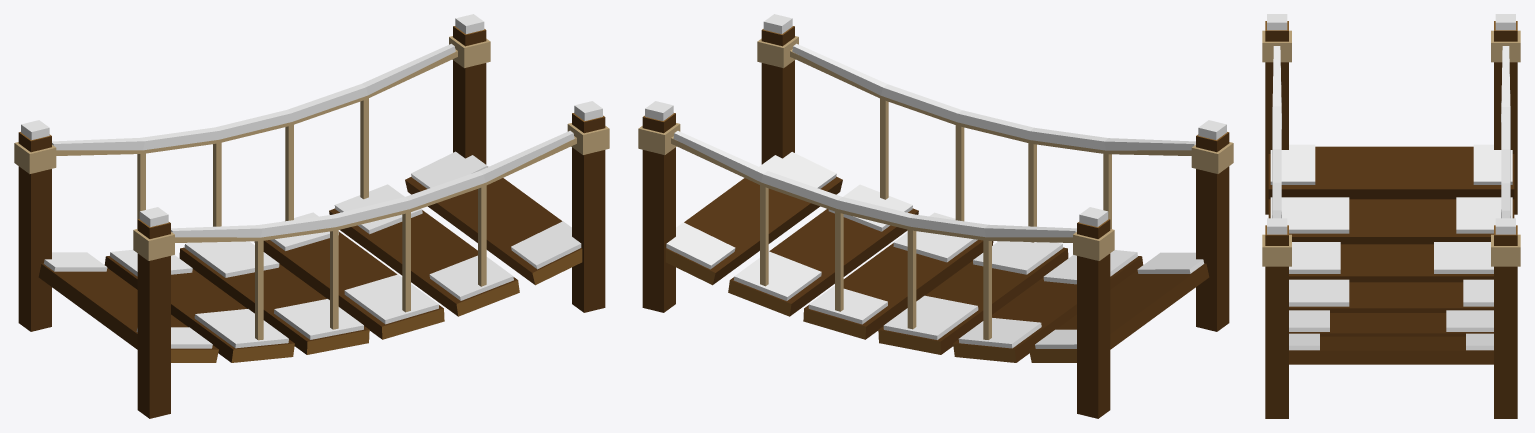
File: WinterBridge_02.fbx
The picture shows the model from 3 angles, left to right: view 1: azimuth 30°, elevation 25°; view 2: azimuth 150°, elevation 25°; view 3: azimuth 270°, elevation 25°; orthographic projection. The views are drawn at different scales.
Parts seen in each view (by area): view 1: WinterBridge_02; view 2: WinterBridge_02; view 3: WinterBridge_02.
Part boxes in pixels (left/top/right/bottom): WinterBridge_02: left=14, top=14, right=609, bottom=418; WinterBridge_02: left=638, top=14, right=1233, bottom=418; WinterBridge_02: left=1262, top=14, right=1520, bottom=418.
Bounding box in the file's own units: 0.6832 × 0.2817 × 0.3443.
